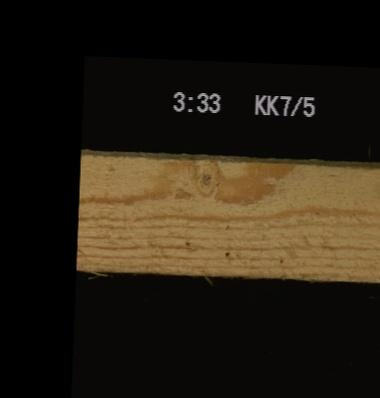sound_knot: (187, 159, 222, 198)
